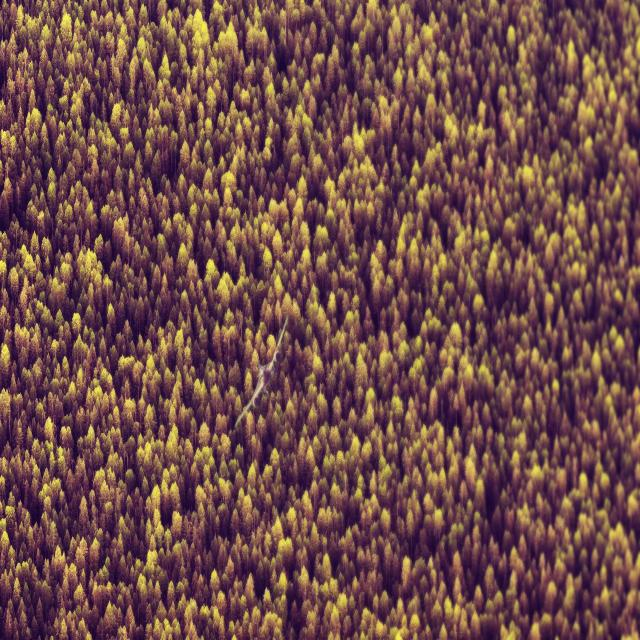airplane: (234, 314, 288, 428)
